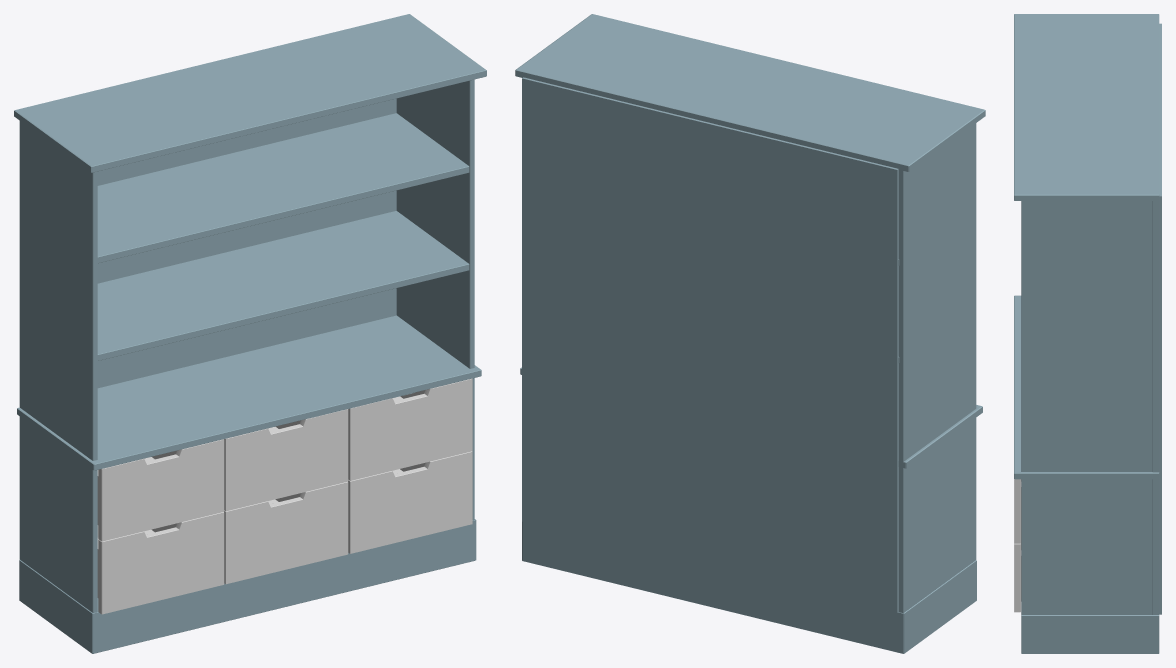
The model's file is estanteria prov.FBX.
The picture shows the model from 3 angles, left to right: view 1: azimuth 30°, elevation 25°; view 2: azimuth 150°, elevation 25°; view 3: azimuth 270°, elevation 25°; orthographic projection. The views are drawn at different scales.
Visible parts, largest first — view 1: drawer2, drawer012, drawer004, drawer011, drawer010, pared, drawer008, drawer009, drawer006, drawer, drawer005, drawer007; view 2: pared, drawer2, drawer012, drawer004; view 3: drawer2, drawer012, drawer004, pared, drawer006, drawer007.
Boxes of the visible parts, <box> form: drawer2: <box>19,79,476,653</box>; drawer012: <box>14,14,486,172</box>; drawer004: <box>17,315,481,470</box>; drawer011: <box>97,113,469,263</box>; drawer010: <box>97,211,469,360</box>; pared: <box>97,98,396,388</box>; drawer008: <box>97,512,224,614</box>; drawer009: <box>97,439,224,541</box>; drawer006: <box>348,451,472,553</box>; drawer: <box>224,481,348,584</box>; drawer005: <box>224,409,348,511</box>; drawer007: <box>348,378,472,480</box>; pared: <box>522,77,898,612</box>; drawer2: <box>522,123,976,653</box>; drawer012: <box>515,14,985,171</box>; drawer004: <box>520,367,982,468</box>; drawer2: <box>1021,201,1159,653</box>; drawer012: <box>1014,14,1159,200</box>; drawer004: <box>1014,295,1159,479</box>; pared: <box>1159,23,1161,614</box>; drawer006: <box>1014,533,1021,612</box>; drawer007: <box>1014,479,1021,543</box>.
Size of the model in its own units: 128 by 152 by 43.97.
